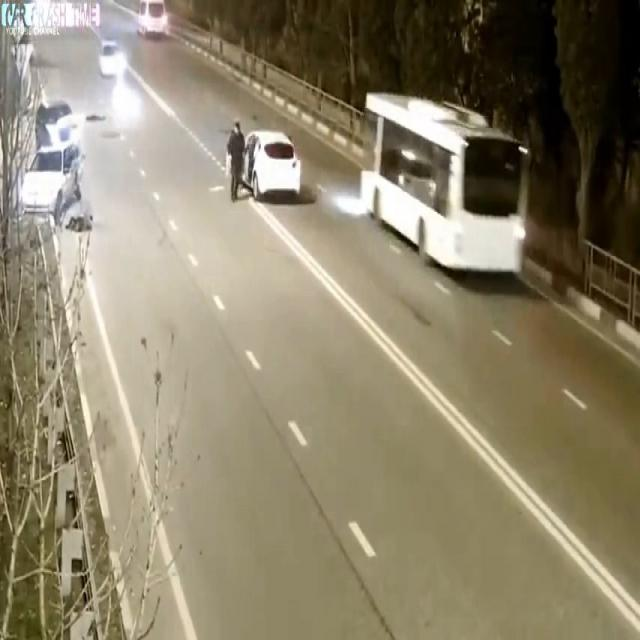Accident: (8, 75, 100, 248)
